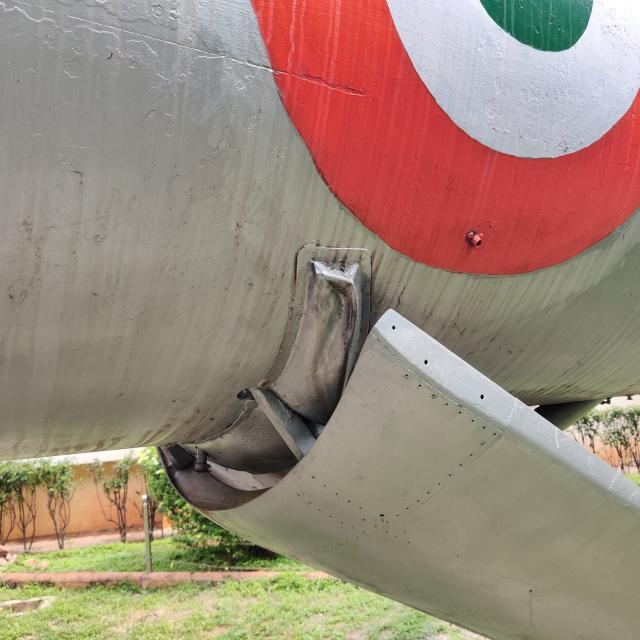dent: (293, 250, 374, 406)
